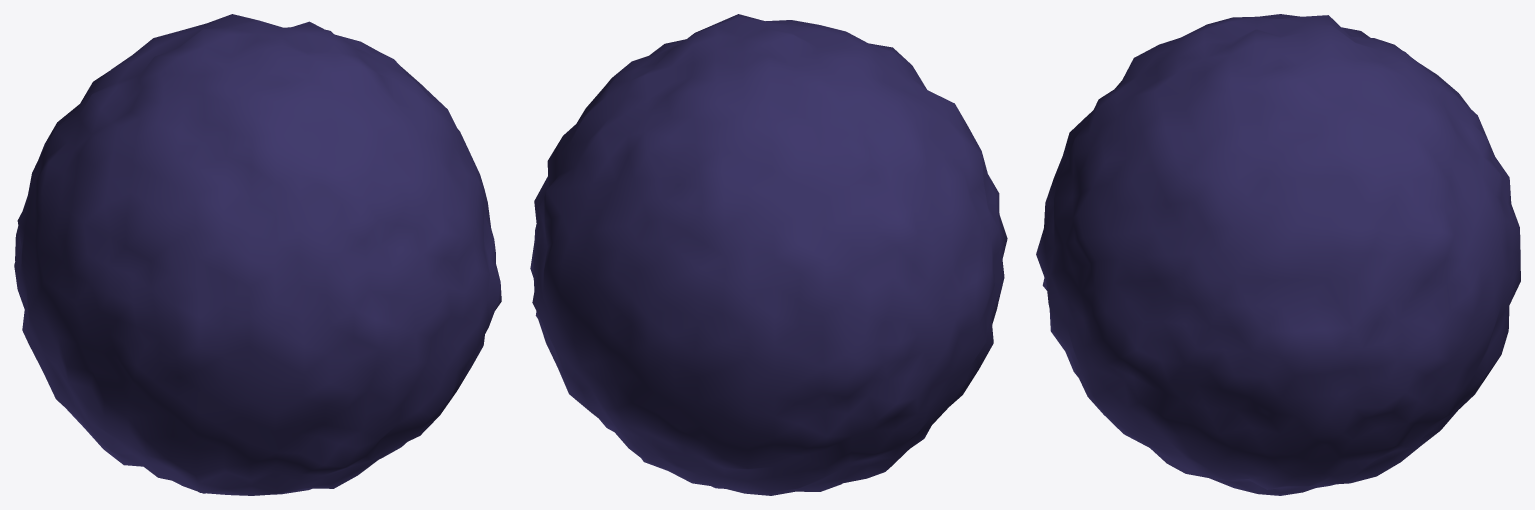
File: asteroid-01.fbx
3 views of the same model, side by side, from view 1: azimuth 30°, elevation 25°; view 2: azimuth 150°, elevation 25°; view 3: azimuth 270°, elevation 25° (orthographic).
Parts seen in each view (by area): view 1: Sphere; view 2: Sphere; view 3: Sphere.
Part boxes in pixels (x1,y1,x2,y2): Sphere: [14, 14, 501, 495]; Sphere: [530, 14, 1007, 495]; Sphere: [1036, 14, 1520, 495].
Size of the model in its own units: 133 by 133 by 134.
